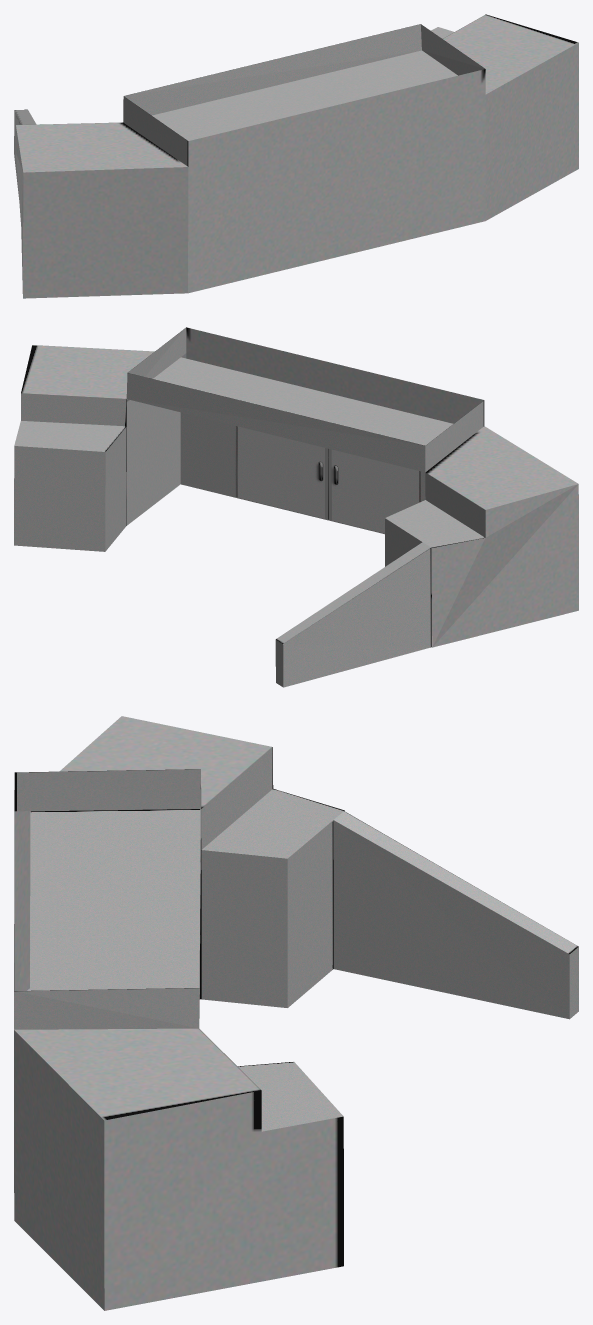
The model's file is Exit_2_Ufa_r.FBX.
3 renders of one model, top to bottom at view 1: azimuth 30°, elevation 25°; view 2: azimuth 150°, elevation 25°; view 3: azimuth 270°, elevation 25°, orthographic. The views are drawn at different scales.
Visible parts, largest first — view 1: Exit_2_Ufa_r; view 2: Exit_2_Ufa_r; view 3: Exit_2_Ufa_r.
Part boxes in pixels (<box>): Exit_2_Ufa_r: <box>14,14,578,298</box>; Exit_2_Ufa_r: <box>14,327,578,687</box>; Exit_2_Ufa_r: <box>14,716,578,1310</box>.
Bounding box in the file's own units: 9.94 × 2.65 × 5.87.
